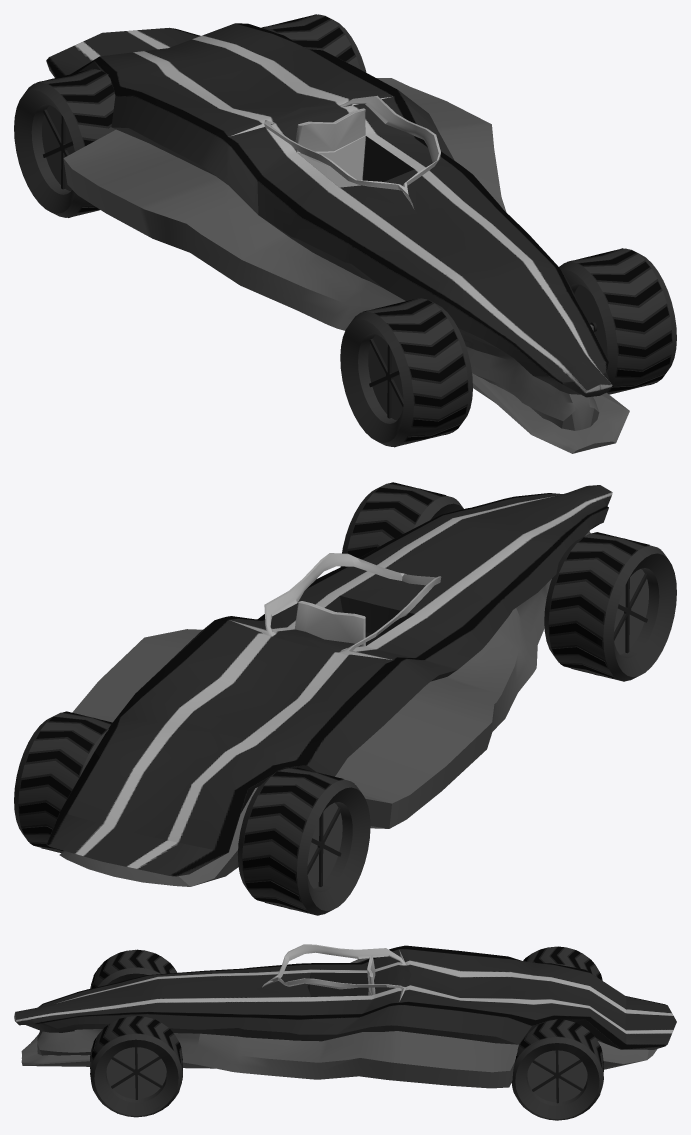
The model's file is carro_final.fbx.
The picture shows the model from 3 angles, top to bottom: view 1: azimuth 30°, elevation 25°; view 2: azimuth 150°, elevation 25°; view 3: azimuth 270°, elevation 25°; orthographic projection. The views are drawn at different scales.
Visible parts, largest first — view 1: Cylinder.007; view 2: Cylinder.007; view 3: Cylinder.007.
Boxes of the visible parts, x1,y1,x2,y2 form: Cylinder.007: (14, 14, 676, 453); Cylinder.007: (14, 482, 676, 915); Cylinder.007: (14, 944, 676, 1120).
Size of the model in its own units: 878 by 413 by 2178.
5 materials, 5 textured.
